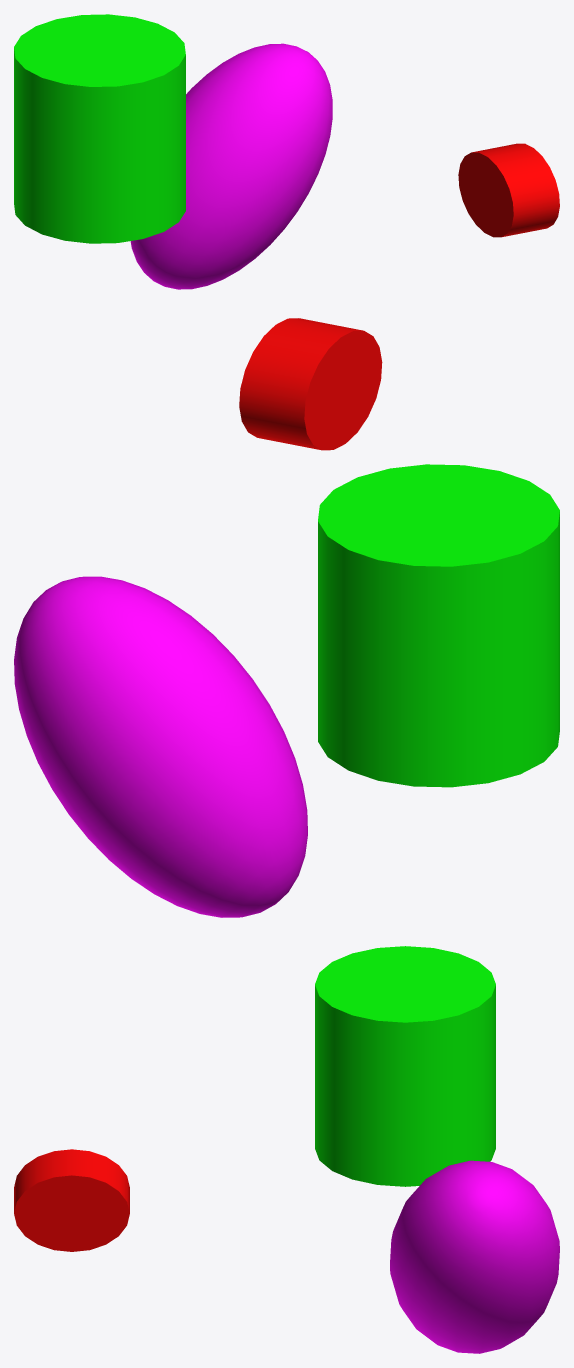
The model's file is MayaShapes.obj.
3 renders of one model, top to bottom at view 1: azimuth 30°, elevation 25°; view 2: azimuth 150°, elevation 25°; view 3: azimuth 270°, elevation 25°, orthographic. The views are drawn at different scales.
Parts seen in each view (by area): view 1: pCylinder2, pSphere1, pCylinder1; view 2: pCylinder2, pSphere1, pCylinder1; view 3: pCylinder2, pSphere1, pCylinder1.
Part boxes in pixels (x1=…): pCylinder2: x1=14, y1=14, x2=185, y2=243; pSphere1: x1=130, y1=43, x2=332, y2=289; pCylinder1: x1=458, y1=143, x2=559, y2=237; pCylinder2: x1=318, y1=464, x2=559, y2=787; pSphere1: x1=14, y1=576, x2=307, y2=917; pCylinder1: x1=239, y1=318, x2=382, y2=450; pCylinder2: x1=315, y1=946, x2=495, y2=1186; pSphere1: x1=390, y1=1160, x2=559, y2=1353; pCylinder1: x1=14, y1=1149, x2=129, y2=1251.
Bounding box in the file's own units: 13.79 × 10.77 × 17.79.
